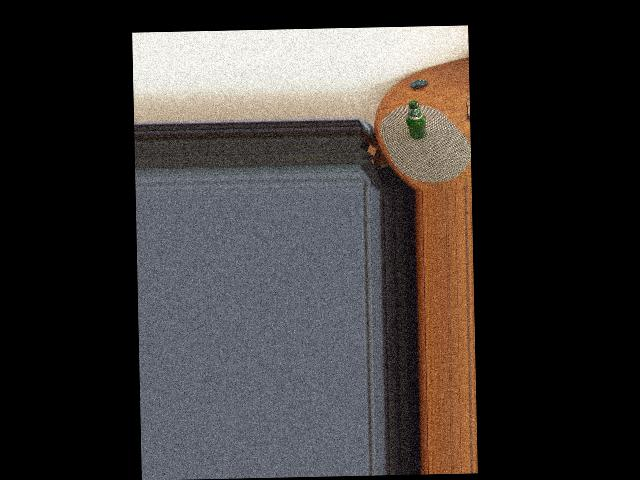beer: (404, 100, 427, 139)
